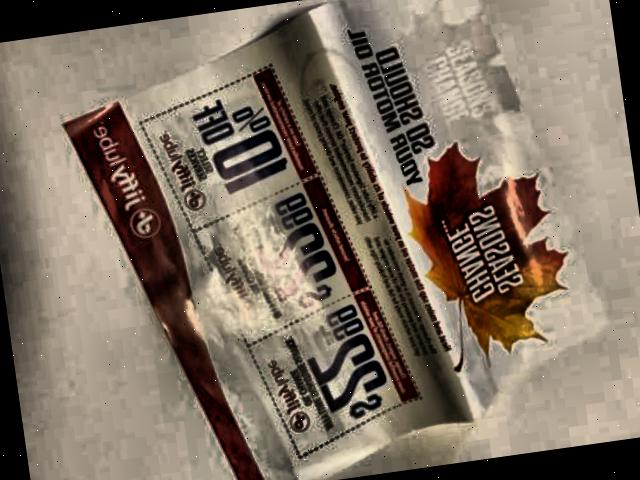Paper: (41, 0, 624, 480)
